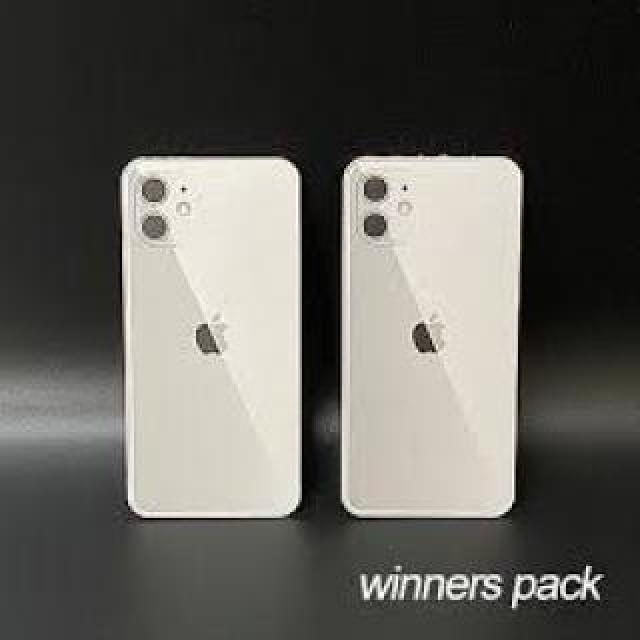smart phone: (93, 110, 310, 572), (338, 105, 535, 540)
